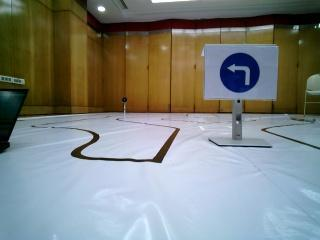left: (210, 41, 283, 99)
